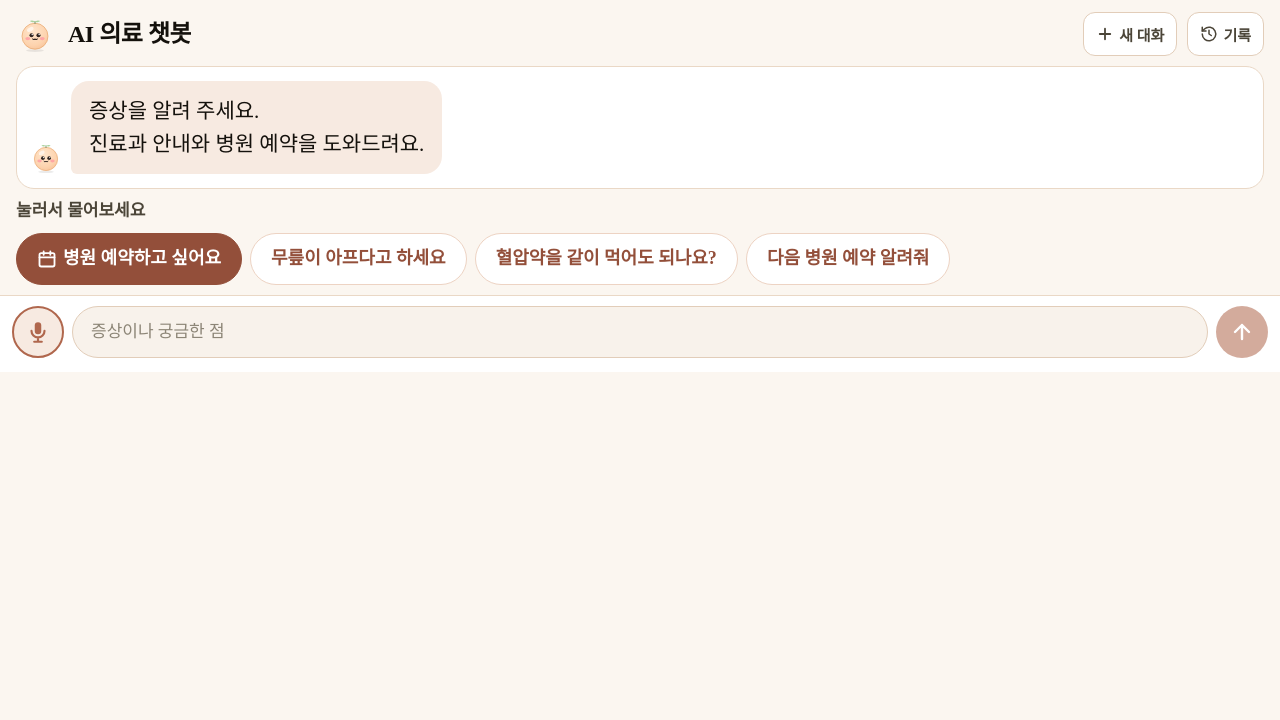
Test case: 보호자 AI 의료 챗봇 › 상담 기록은 대화창 단위로 묶고, 누르면 그 대화의 질문·답 전체를 시간순으로 보인다 (2026-11-11)
The width and height of the screenshot is (1280, 720).
Click the button named "상담 기록".
click(1226, 34)  # box [1187,12,1264,56]
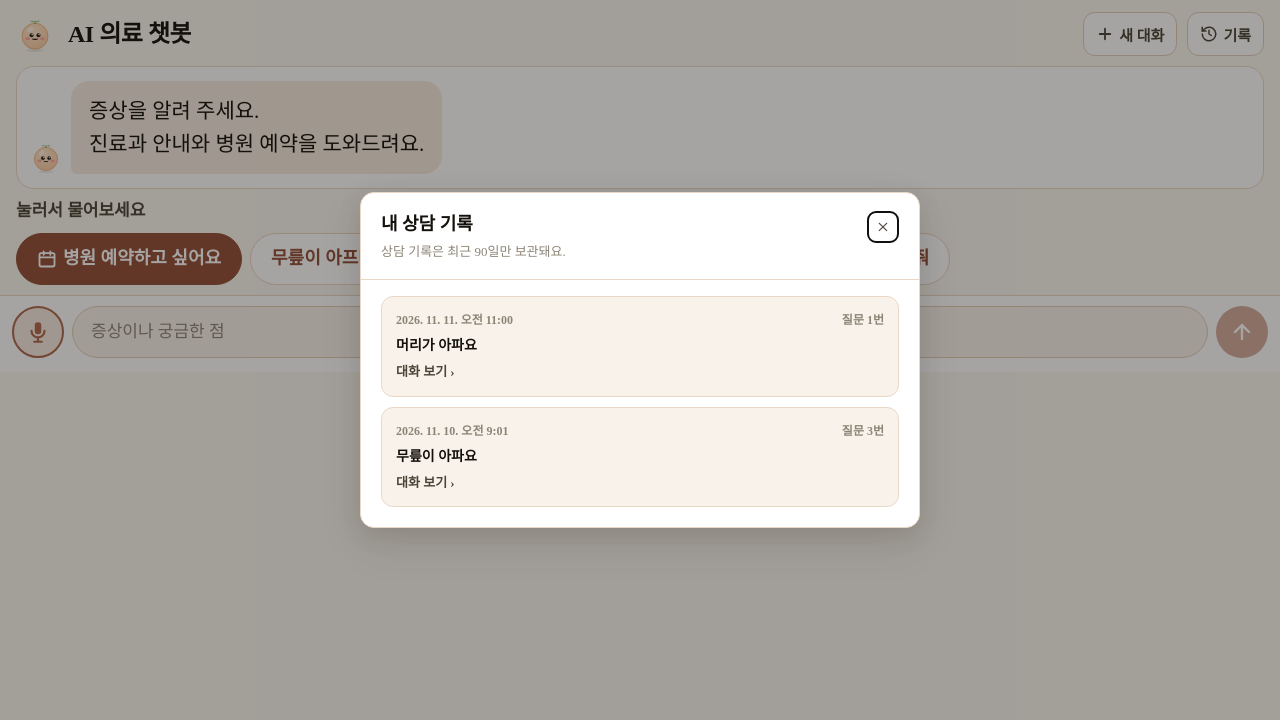
Result: the button "2026. 11. 11. 오전 11:00 질문 1번 머리가 아파요 대화 보기 ›" is shown at [381,296,899,397]
Result: the button "2026. 11. 10. 오전 9:01 질문 3번 무릎이 아파요 대화 보기 ›" is shown
Click the button "2026. 11. 10. 오전 9:01 질문 3번 무릎이 아파요 대화 보기 ›".
click(452, 431)  # box [381,407,899,507]
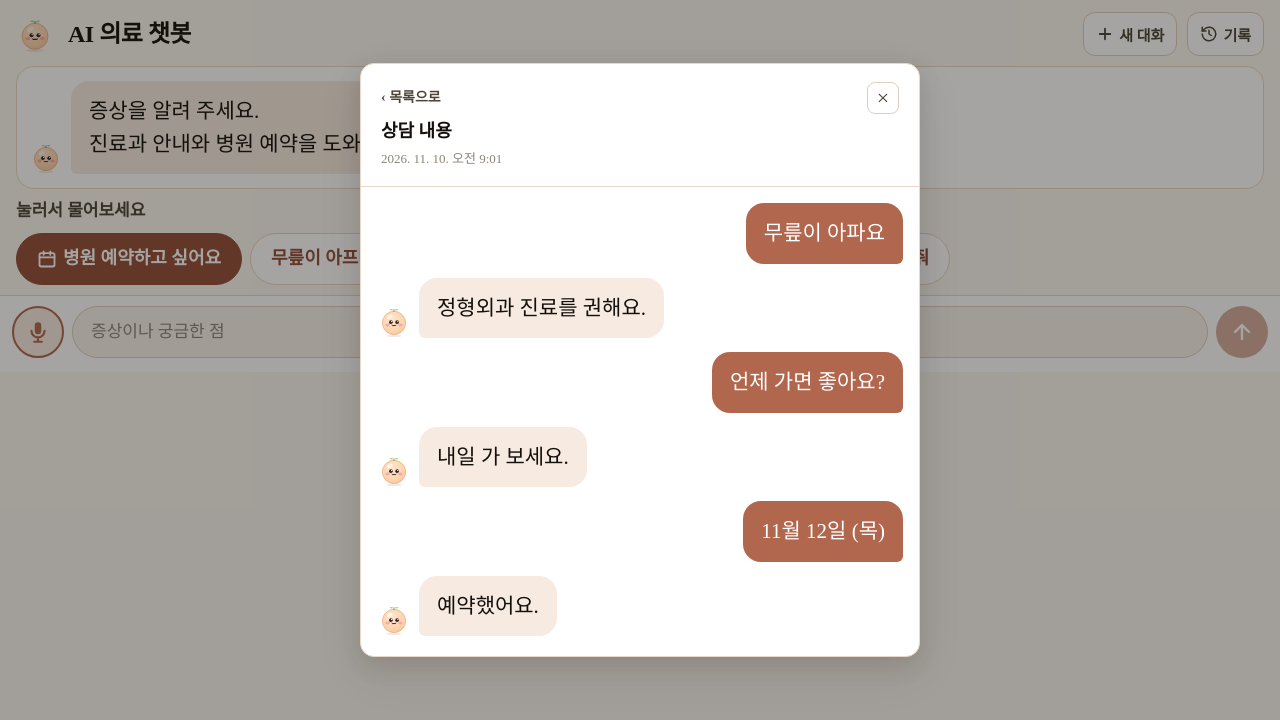
Result: the button labelled "상담 대화" no longer shows "머리가 아파요"
Click the button "‹ 목록으로".
click(411, 96)  # box [381,82,441,110]
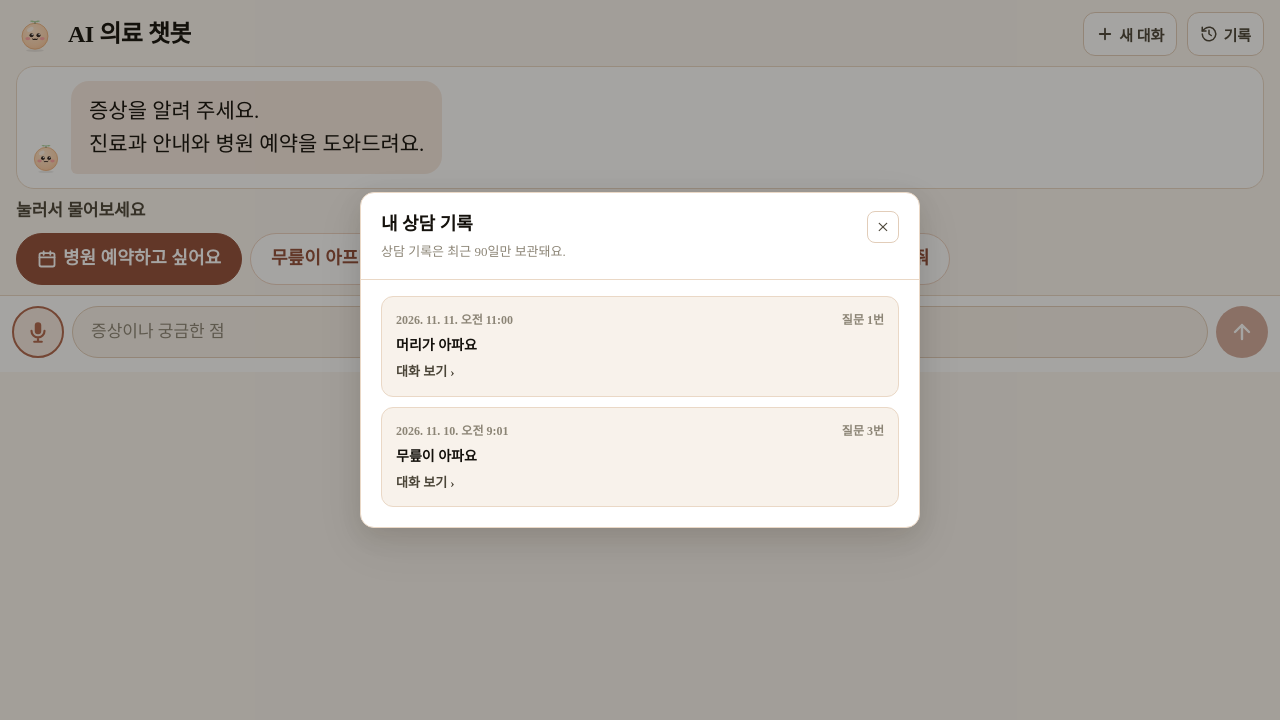
Result: the button "2026. 11. 11. 오전 11:00 질문 1번 머리가 아파요 대화 보기 ›" is shown at [381,296,899,397]
